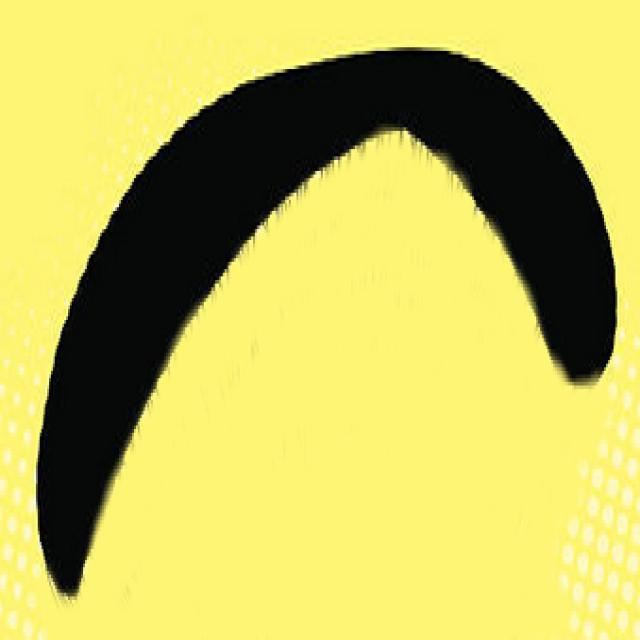paraglider: (32, 40, 617, 600)
